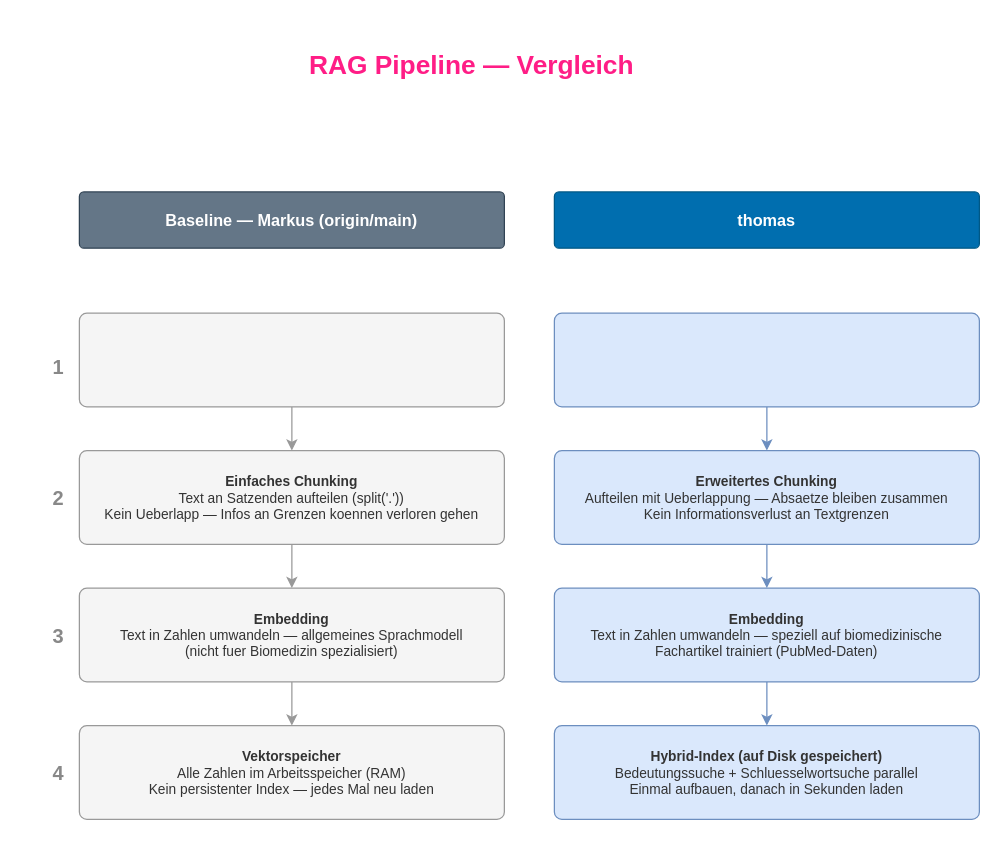
Image size: 1001x841. Some labels were removed from this diagram. Each missing label, with the centre of its shape:
"Daten laden Artikel aus Datenbank lesen Felder: Titel + Abstract" belongs at (x=291, y=359).
"Daten laden Artikel aus Datenbank lesen Felder: Titel + Abstract + Einleitung" belongs at (x=766, y=359).
